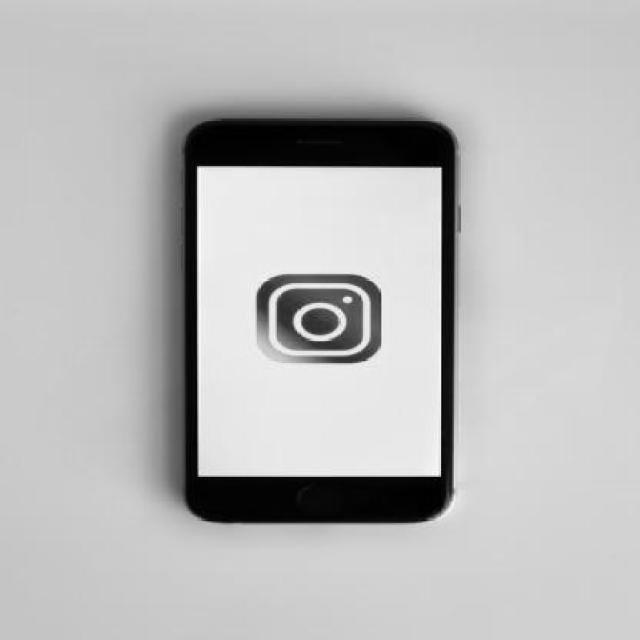fake: (179, 112, 453, 526)
